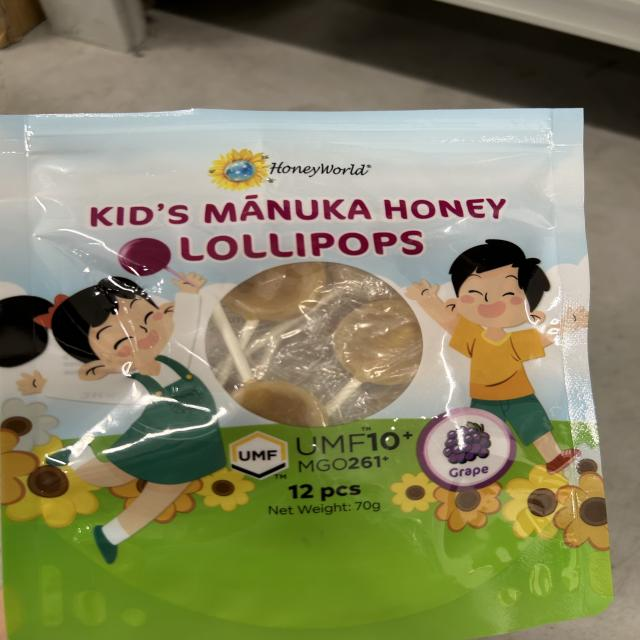object_name: (2, 116, 601, 640)
